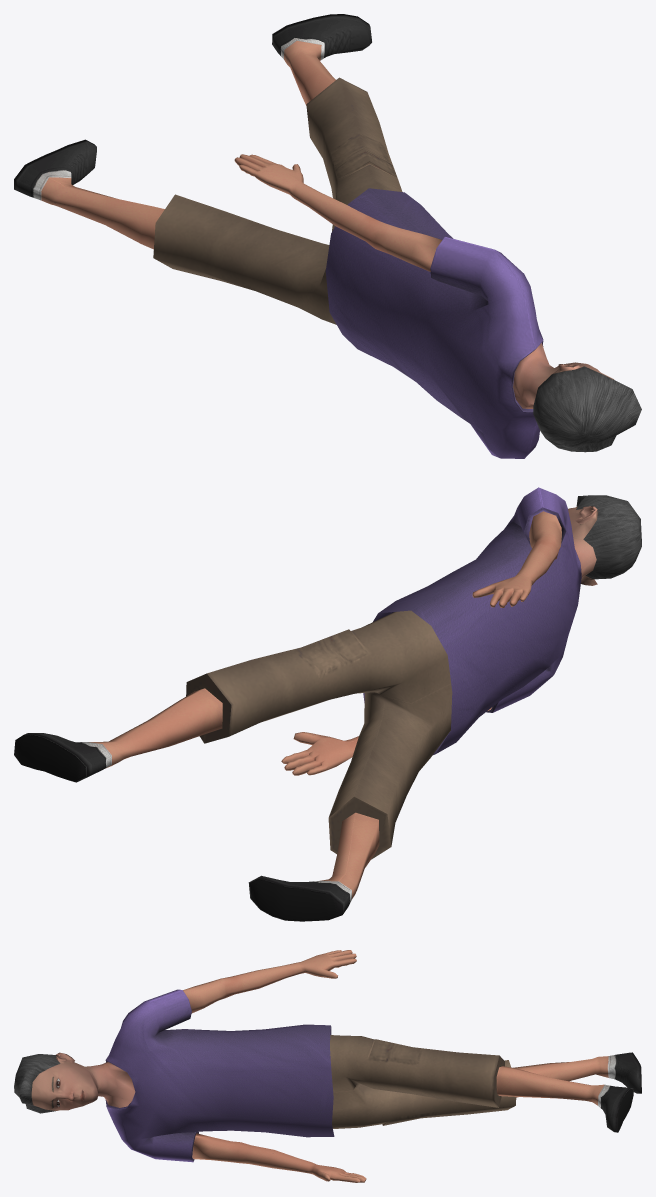
Rendered from walk.obj.
3 views of the same model, one above another, from view 1: azimuth 30°, elevation 25°; view 2: azimuth 150°, elevation 25°; view 3: azimuth 270°, elevation 25° (orthographic). The views are drawn at different scales.
Size of the model in its own units: 0.7866 by 0.5004 by 1.75.
1 material, 1 textured.
